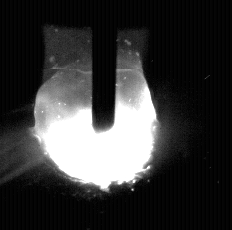arame: (93, 0, 117, 133)
poca: (34, 0, 158, 230)
